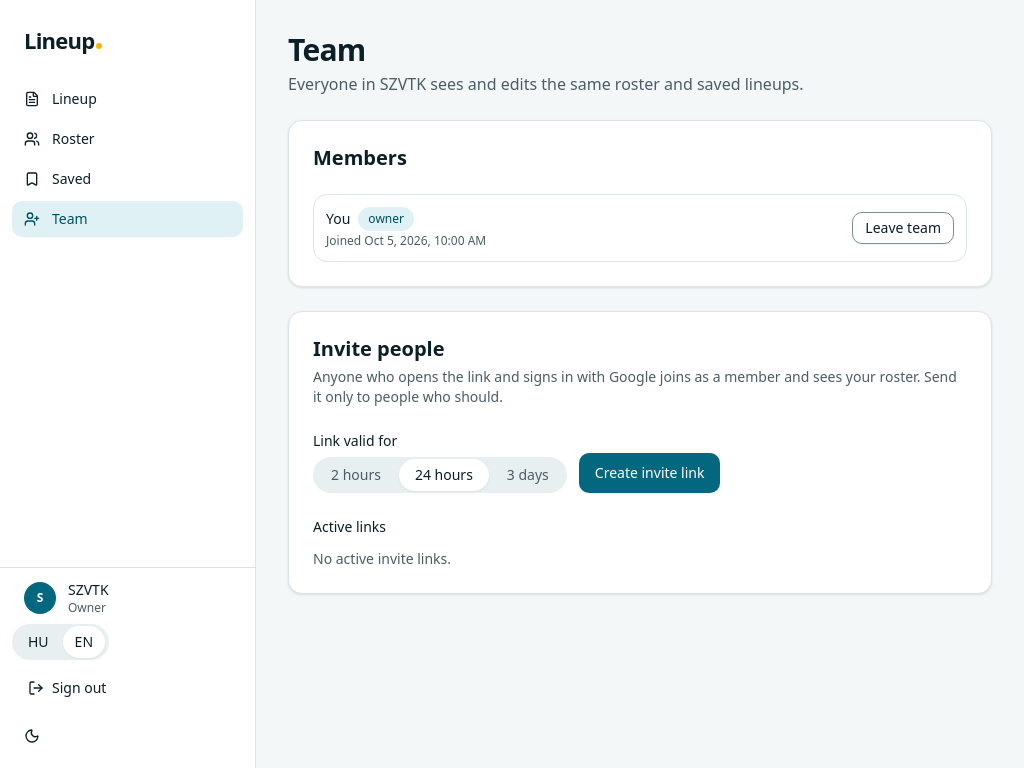
creating a link › shows a generic message when it fails
Click the button "Create invite link". click: (650, 473)
box: [579,453,720,493]
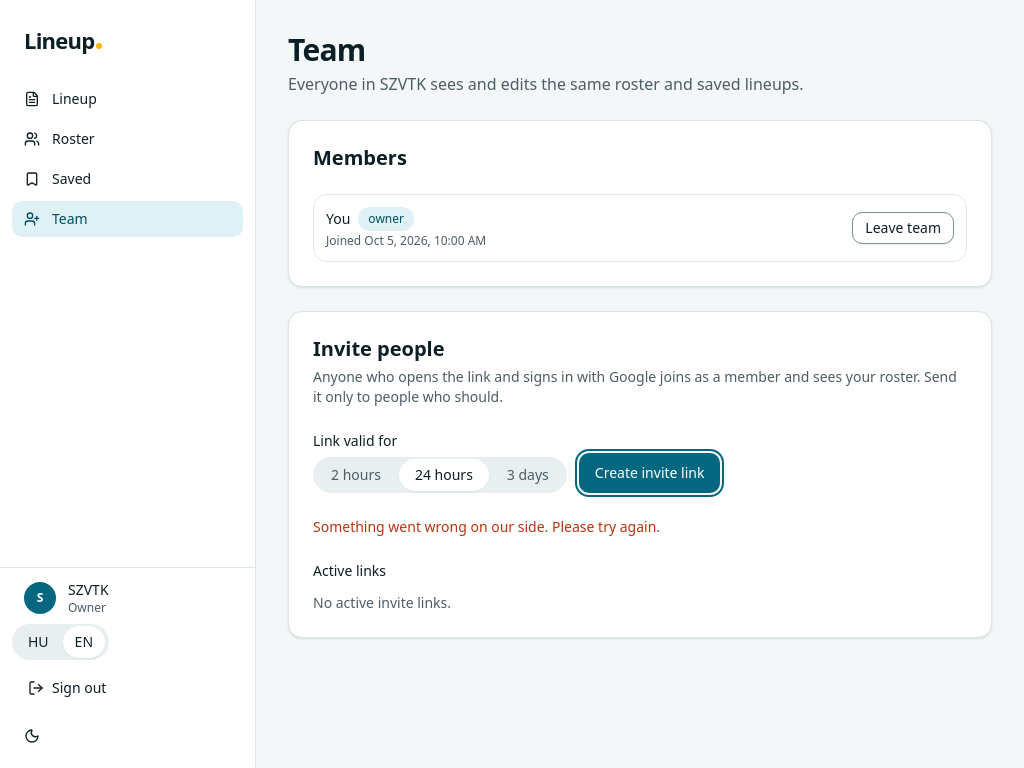
Check: the message shows "Something went wrong on our side", box [313,517,660,536]
